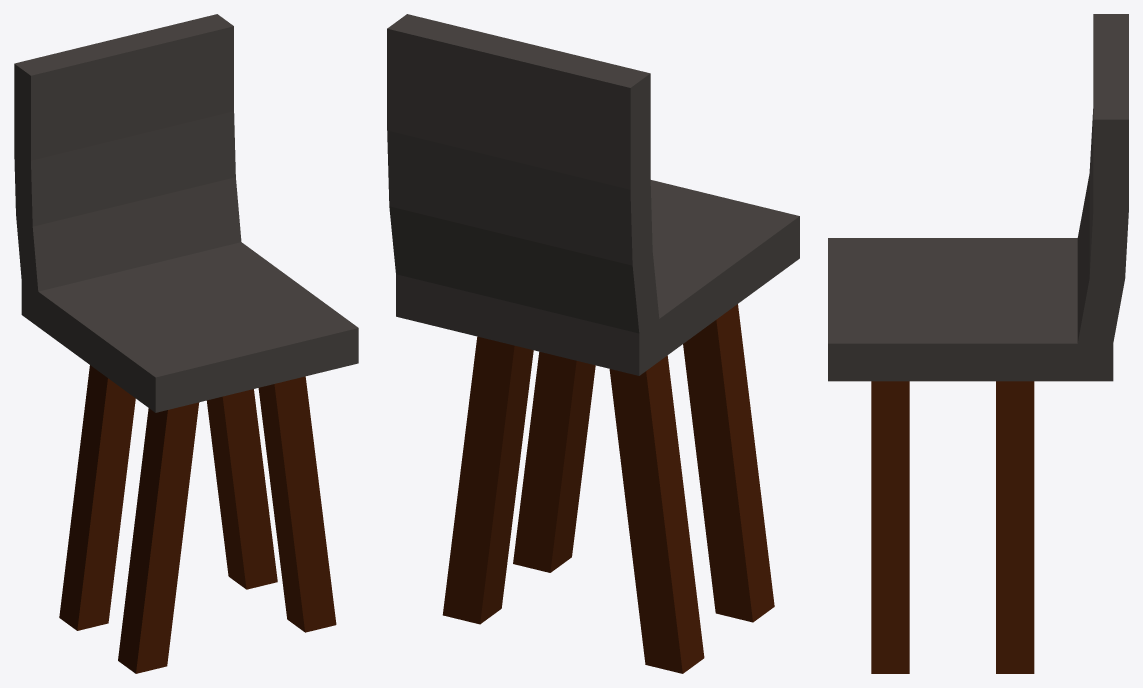
Rendered from stool.fbx.
3 renders of one model, left to right at view 1: azimuth 30°, elevation 25°; view 2: azimuth 150°, elevation 25°; view 3: azimuth 270°, elevation 25°, orthographic. The views are drawn at different scales.
Parts seen in each view (by area): view 1: Cube; view 2: Cube; view 3: Cube.
Part boxes in pixels (bbox=[...]): Cube: bbox=[14, 14, 358, 673]; Cube: bbox=[387, 14, 799, 673]; Cube: bbox=[828, 14, 1128, 673].
Bounding box in the file's own units: 300 × 736 × 362.
